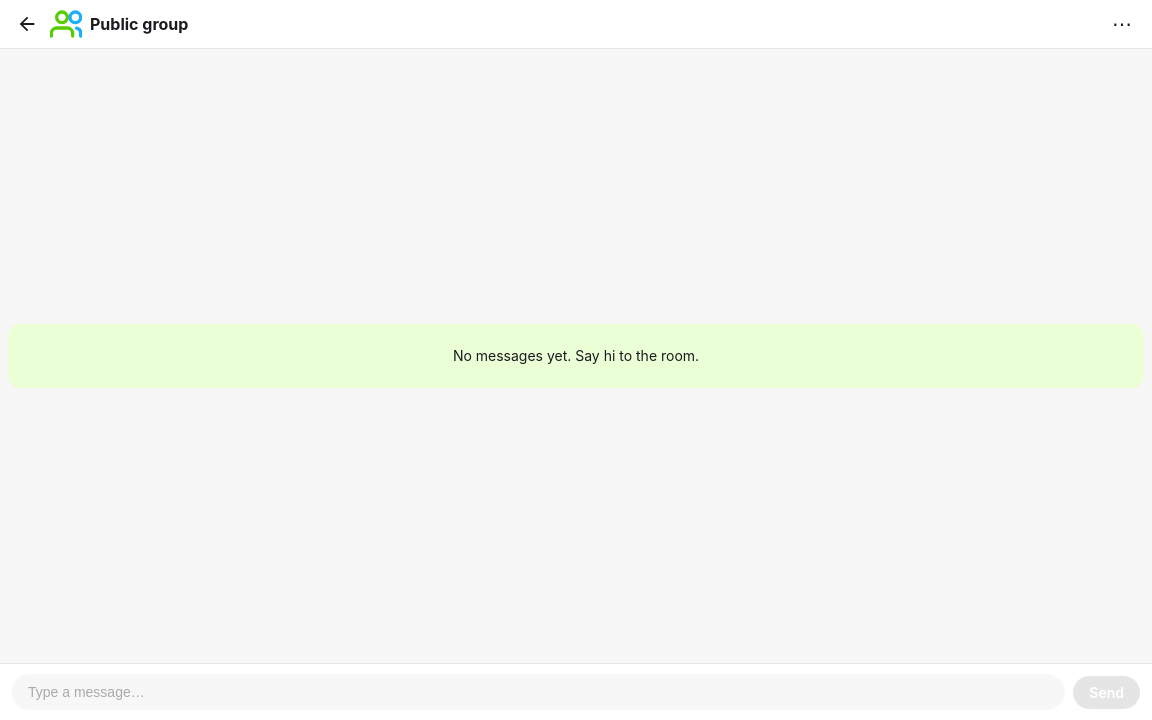
SocialChatPage › sends a message via WebSocket on click send
The image size is (1152, 720).
Type "Hello world" into the field with class "chat-input".
click(539, 692); type("Hello world")  # box [12,674,1065,710]
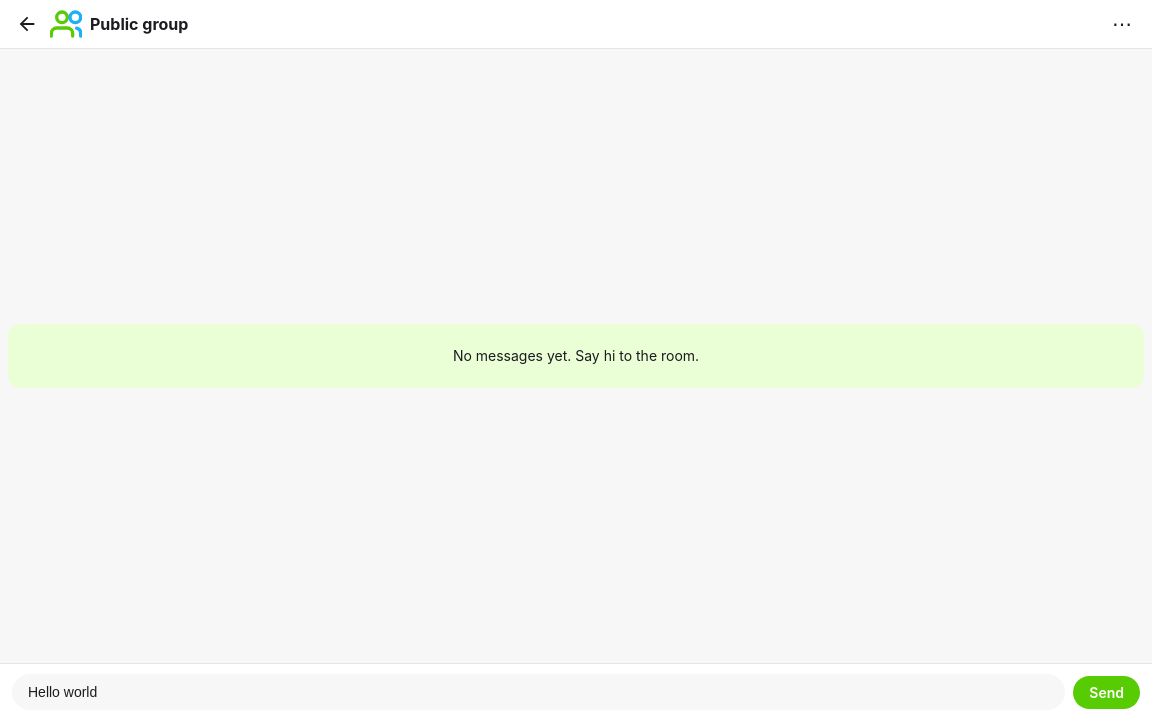
Click the button with class "send-btn".
click(1107, 692)  # box [1073,676,1140,708]
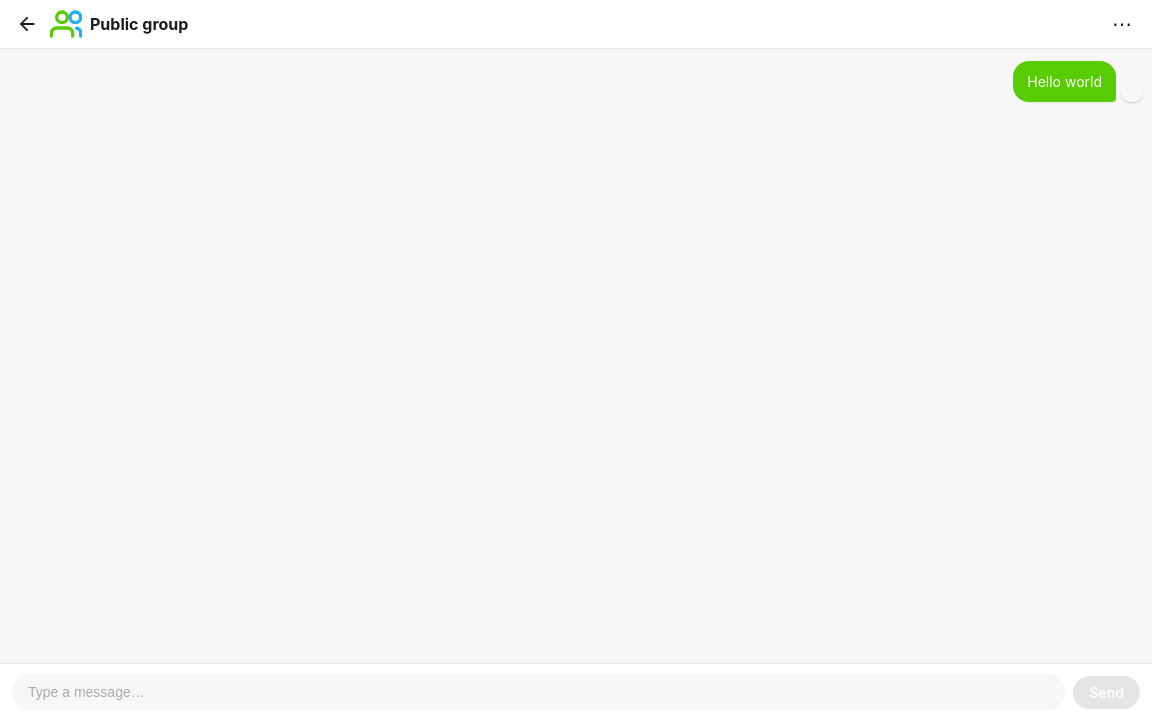
Now the text "Hello world" is shown, box [1027,71,1102,92]
